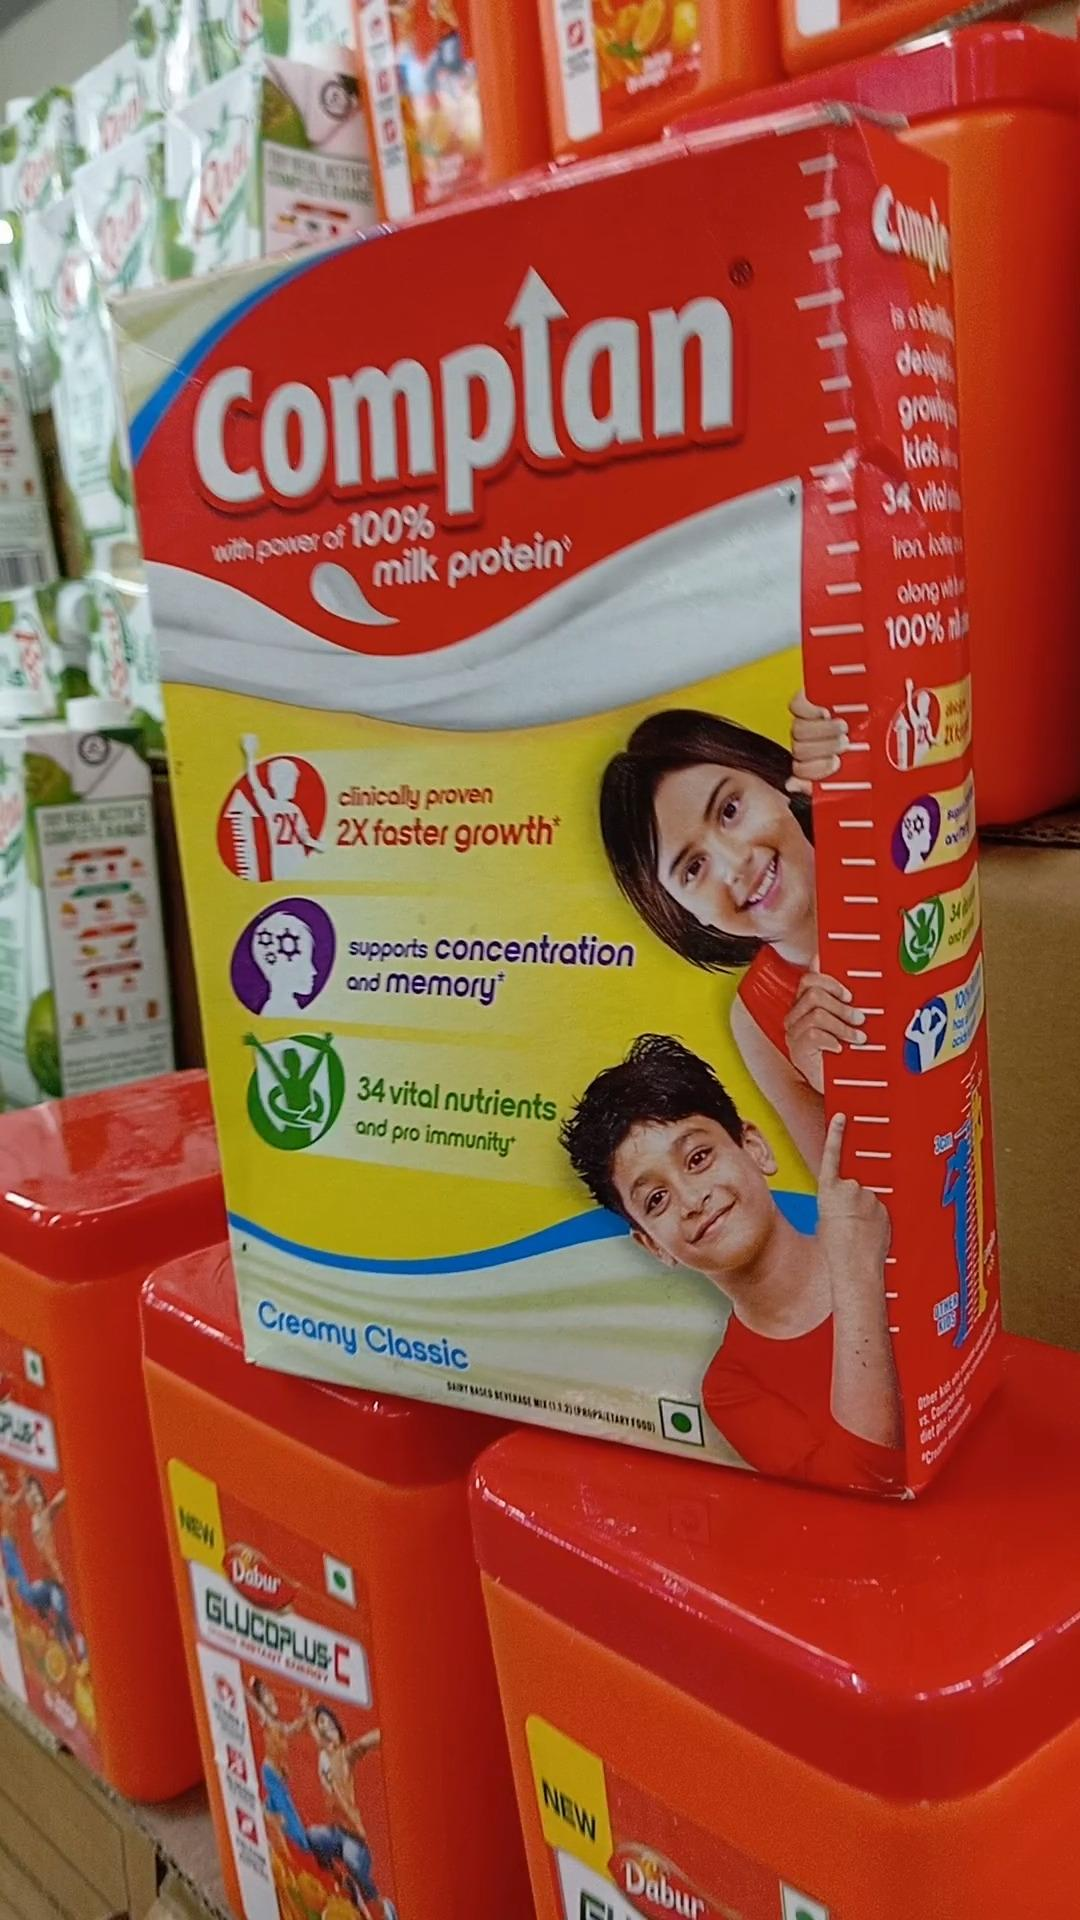COMPLAN_CREAMY_CLASSIC_500_G_PACK: (135, 140, 845, 1495)
